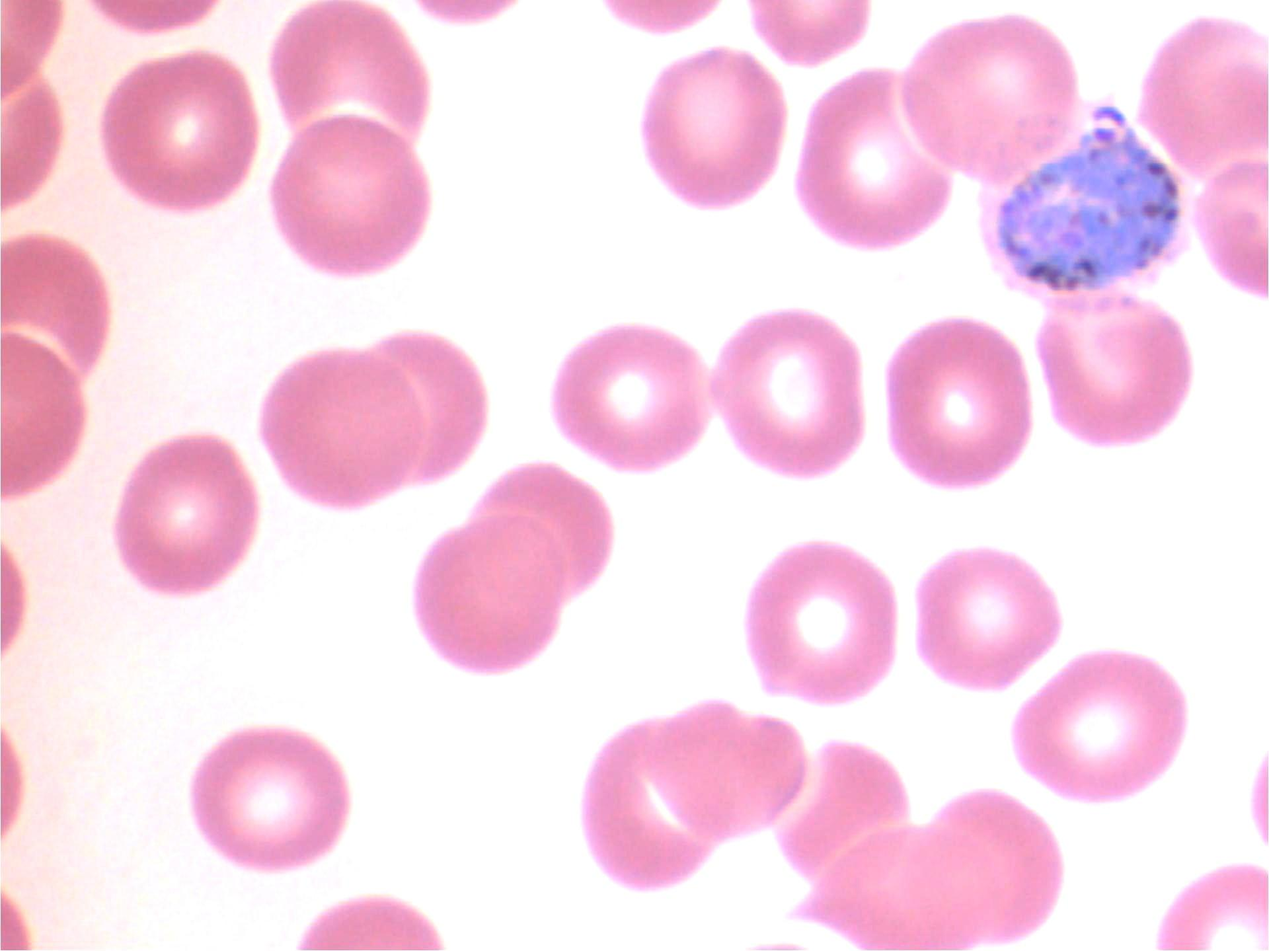Infected: (981, 90, 1191, 302)
Uninfected: (897, 15, 1080, 172), (795, 70, 957, 247), (1011, 645, 1190, 804), (264, 347, 426, 512), (266, 119, 432, 280), (101, 48, 259, 216), (271, 5, 431, 165), (750, 539, 899, 705), (549, 319, 714, 468), (583, 716, 722, 891), (793, 835, 1001, 951), (884, 324, 1027, 491), (115, 435, 260, 599), (719, 316, 866, 477), (922, 783, 1064, 949), (416, 517, 563, 674), (643, 52, 788, 209), (192, 727, 352, 868), (912, 546, 1065, 693), (1036, 309, 1194, 450), (651, 696, 804, 833), (1139, 16, 1269, 177), (482, 464, 609, 595), (0, 232, 104, 389), (787, 742, 915, 867), (0, 331, 89, 505), (380, 331, 481, 468), (1196, 159, 1269, 299)
